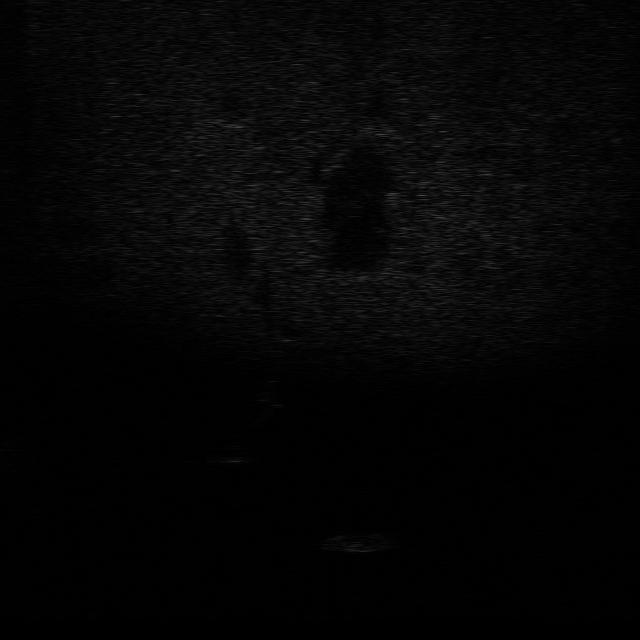ball: (210, 438, 255, 468)
circle cage: (315, 528, 397, 558)
human body: (245, 369, 286, 431)
